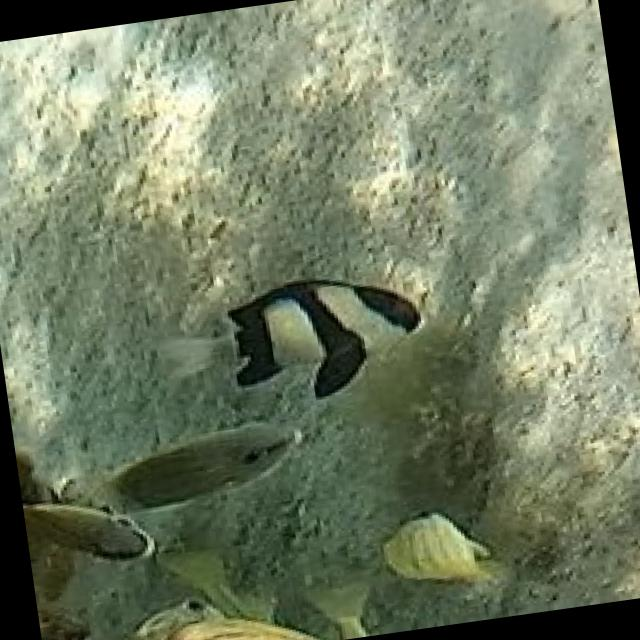ThreeStripedDamselfish: (169, 282, 423, 400)
